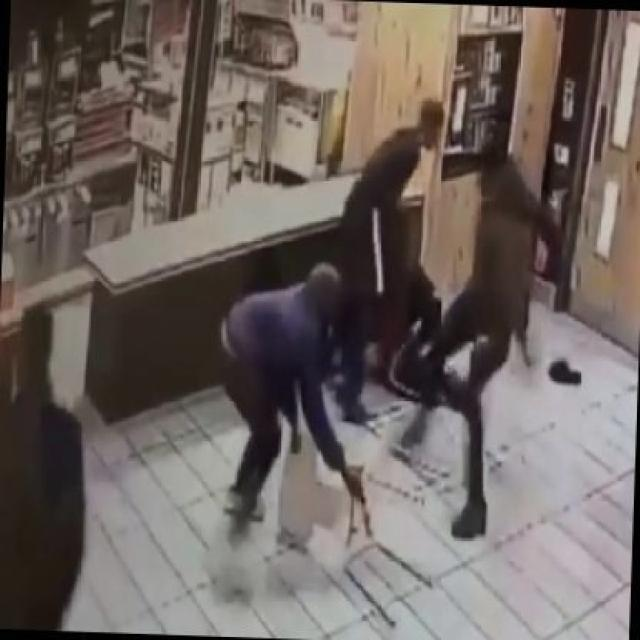fight: (396, 136, 563, 544), (212, 256, 373, 526), (328, 97, 452, 425)
